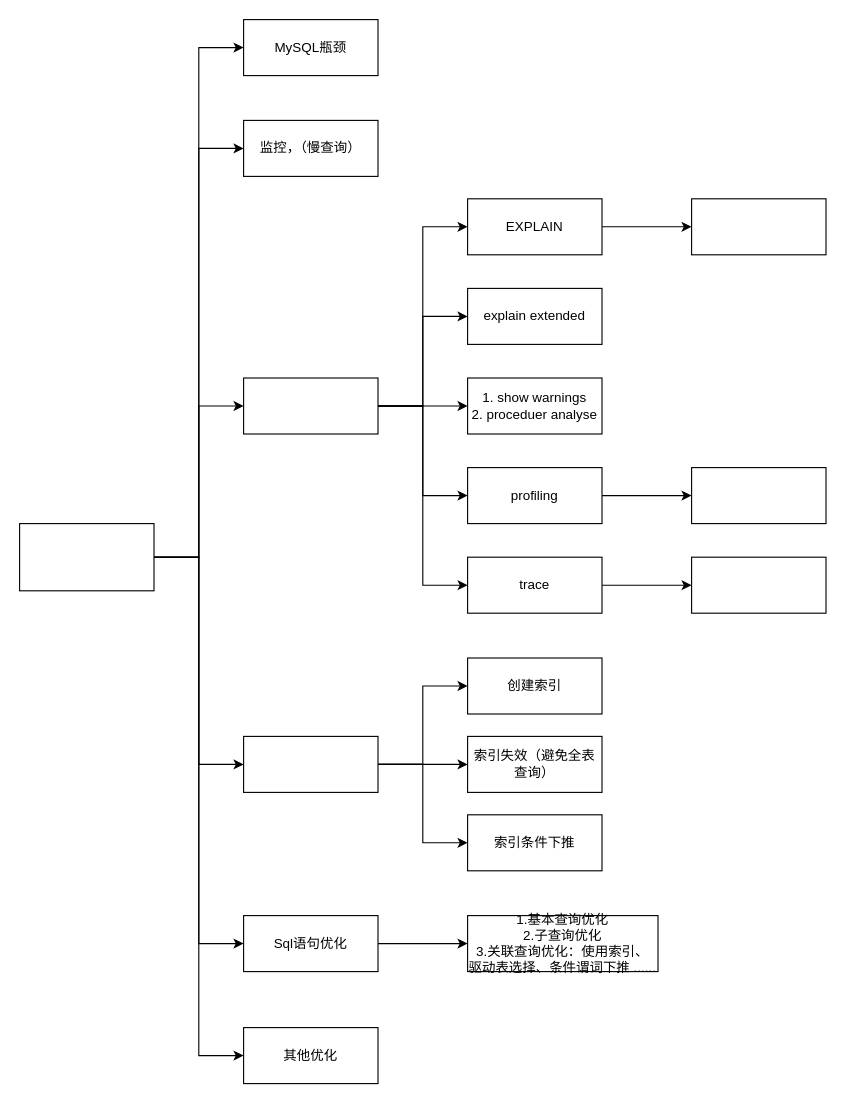
Some shapes in this 846 by 1103 pixel diagram are drawn without their labels. The centre of each missing label's shape, as x and y in pixels:
SQL优化: the point at 86,556
type、key、key_len、Extra: the point at 758,226
分析，（EXPLAIN、PROCEDURE ANALYSE）: the point at 310,405
查看优化器如何选择执行计划，获取每个可能的索引选择的代价。: the point at 758,584
索引优化: the point at 310,763
资料搜集，了解SQL语句消耗资源的详细信息，每个执行步骤的开销。: the point at 758,495
